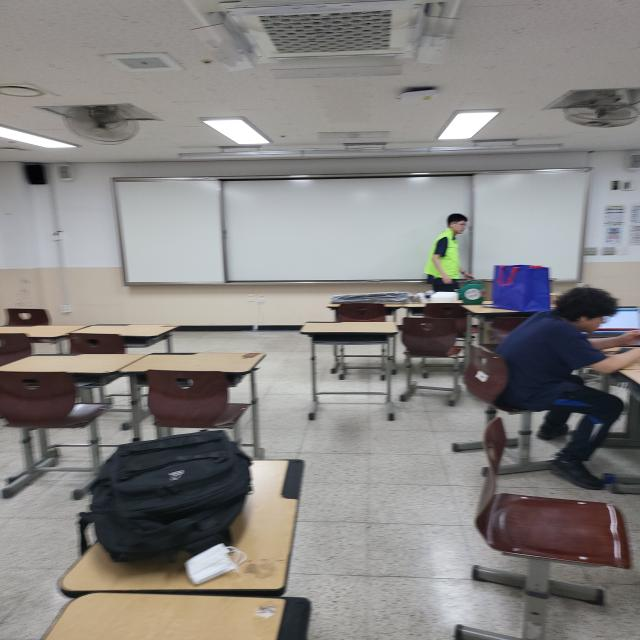weston_spy: (429, 229, 473, 284)
